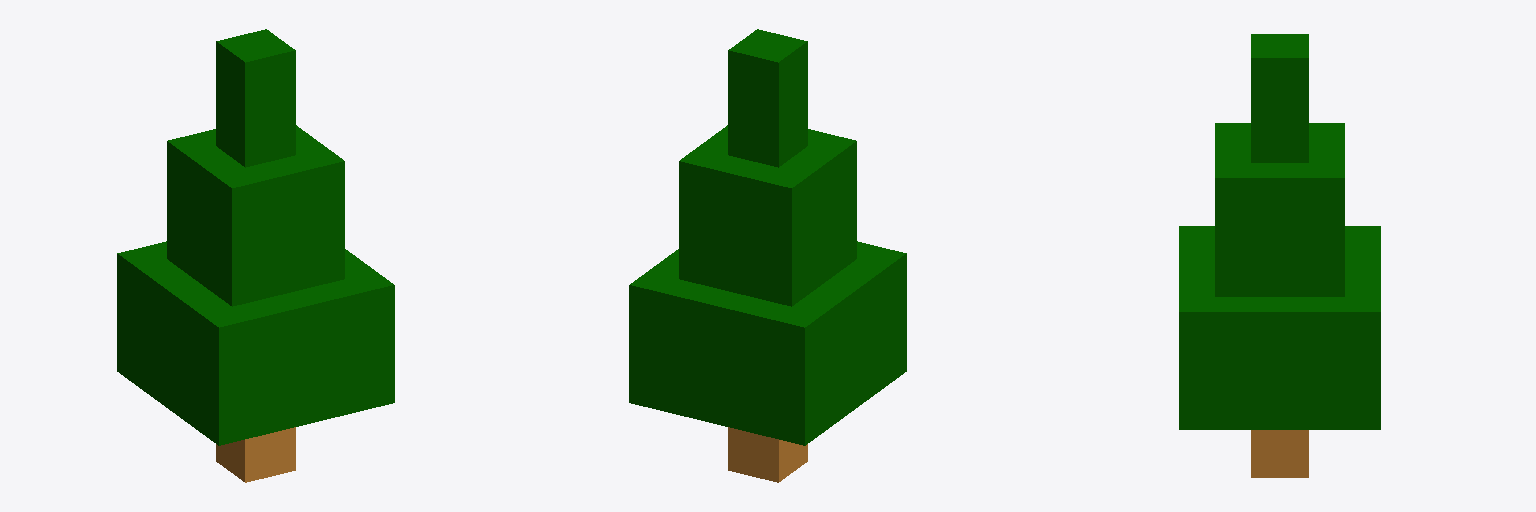
File: Tree_2.obj
3 renders of one model, left to right at view 1: azimuth 30°, elevation 25°; view 2: azimuth 150°, elevation 25°; view 3: azimuth 270°, elevation 25°, orthographic.
Visible parts, largest first — view 1: Mesh1 Model; view 2: Mesh1 Model; view 3: Mesh1 Model.
Part boxes in pixels (x1,y1,x2,y2): Mesh1 Model: (117, 29, 394, 482); Mesh1 Model: (629, 29, 906, 482); Mesh1 Model: (1179, 34, 1380, 477).
Size of the model in its own units: 7000 by 16000 by 7000.